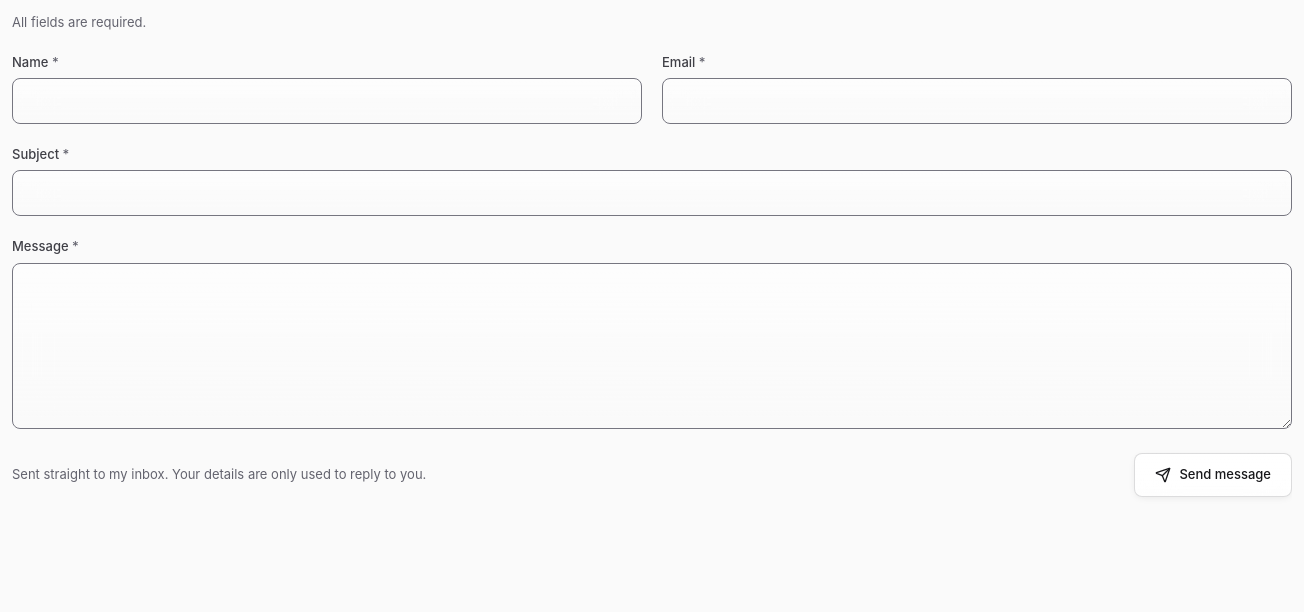
Scenario: ContactForm › blocks submissions that are faster than a person could type
This screenshot has width=1304, height=612.
Type "Ada Lovelace" into the field labelled "Name *". click: coordinates (327, 101)
box: [12,78,642,124]
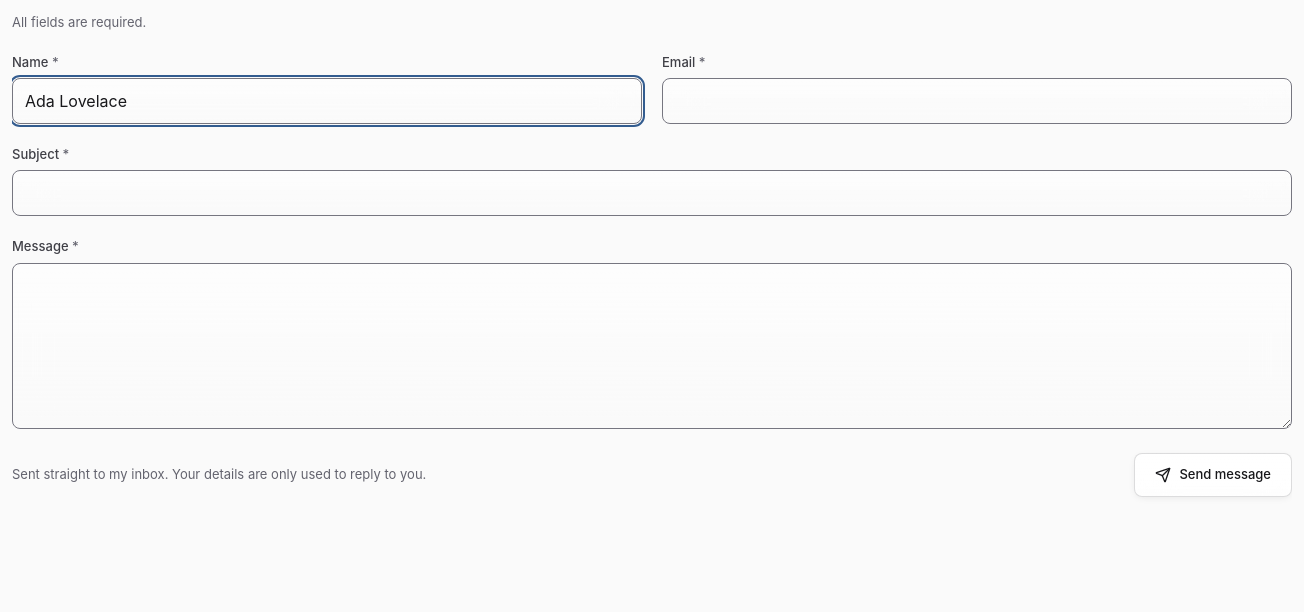
Type "ada@example.com" into the field labelled "Email *". click: coordinates (977, 101)
box: [662,78,1292,124]
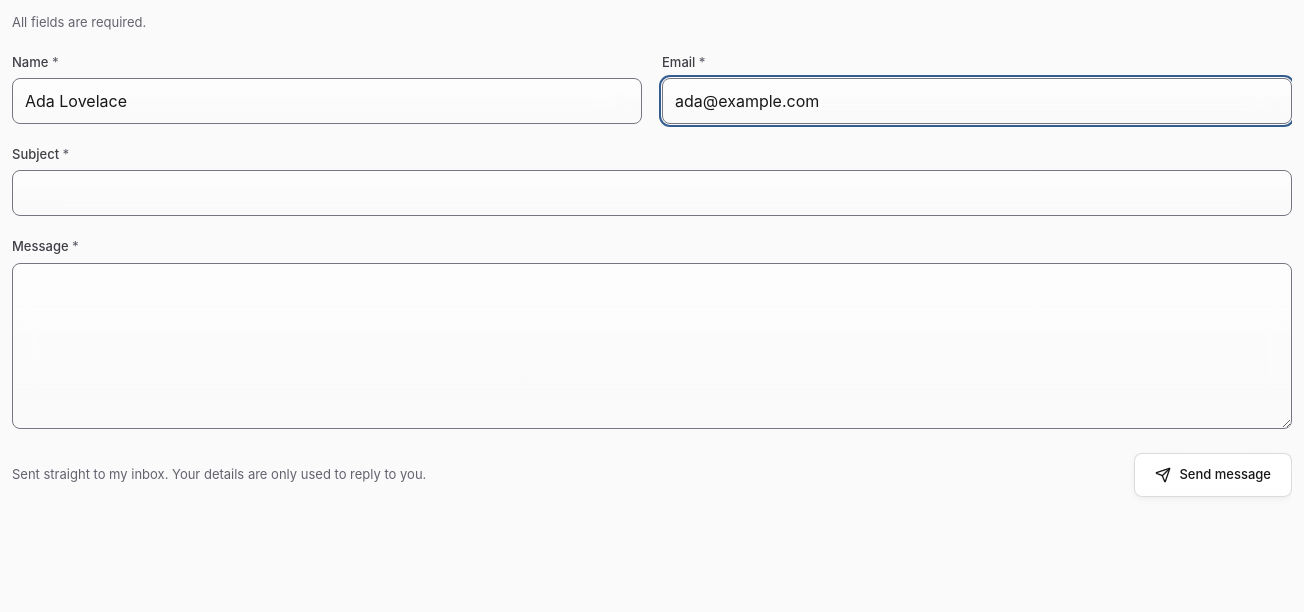
Type "Project" into the field labelled "Subject *". click: coordinates (652, 193)
box: [12,170,1292,216]
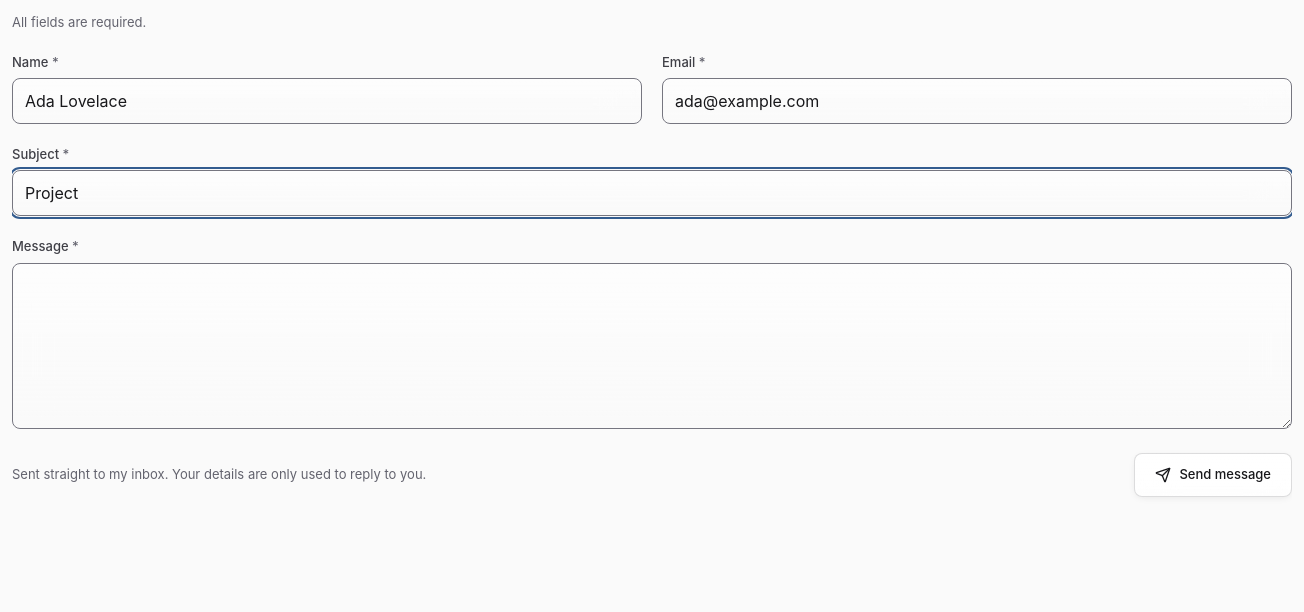
Type "I would like to discuss a project." into the text box labelled "Message *". click: coordinates (652, 346)
box: [12,263,1292,429]
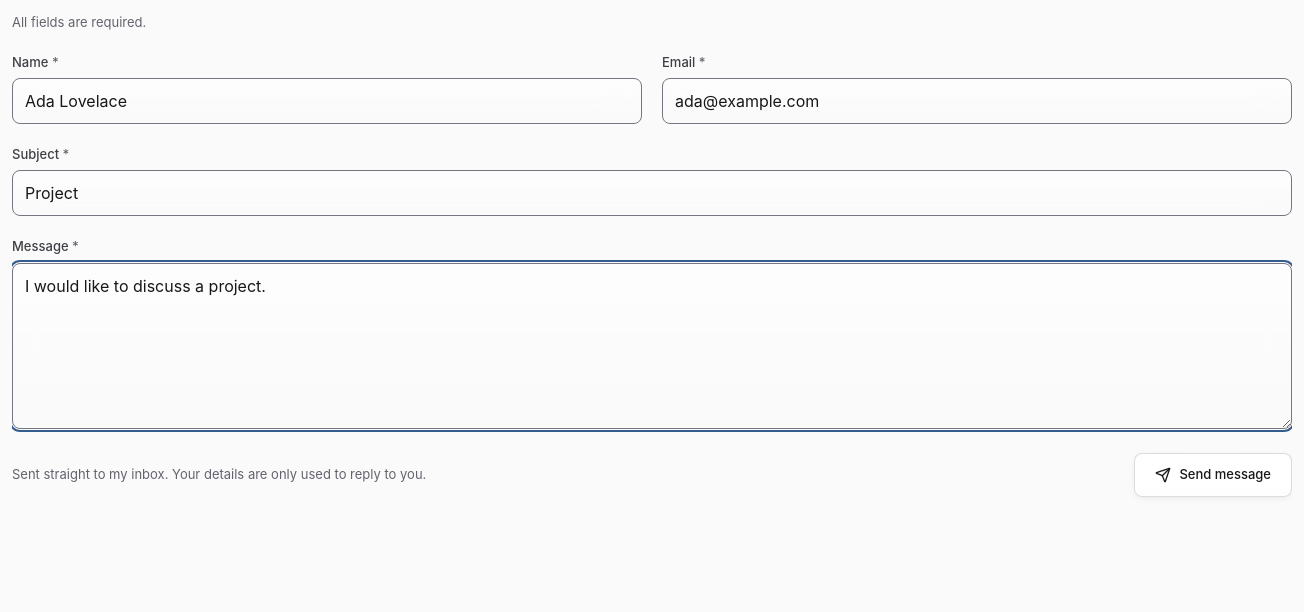
Click the button "Send message". click: coordinates (1213, 475)
box: [1134,453,1292,497]
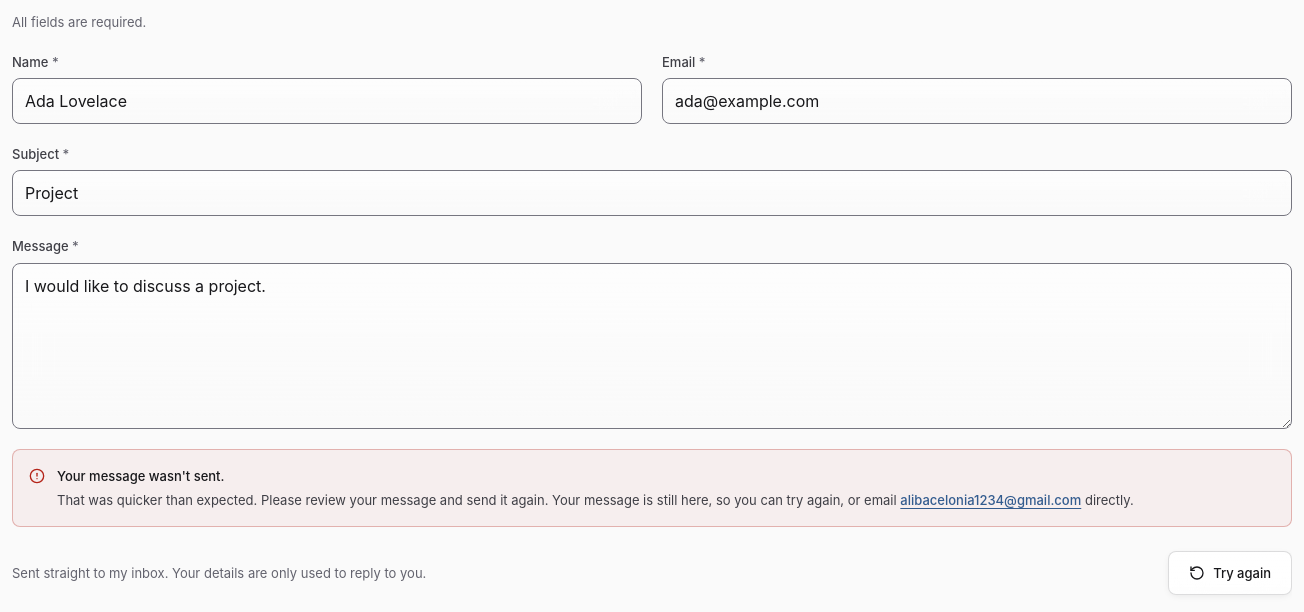
Expected: the message shows "quicker than expected", [57,492,548,508]
